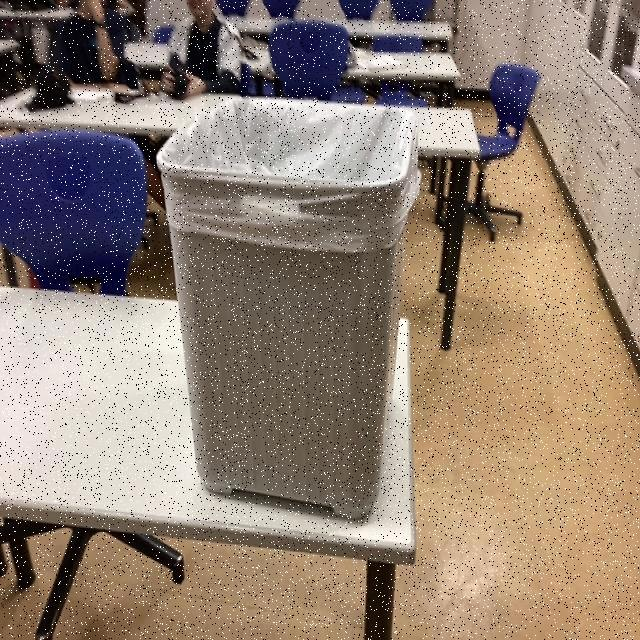garbage container: (121, 52, 431, 544)
